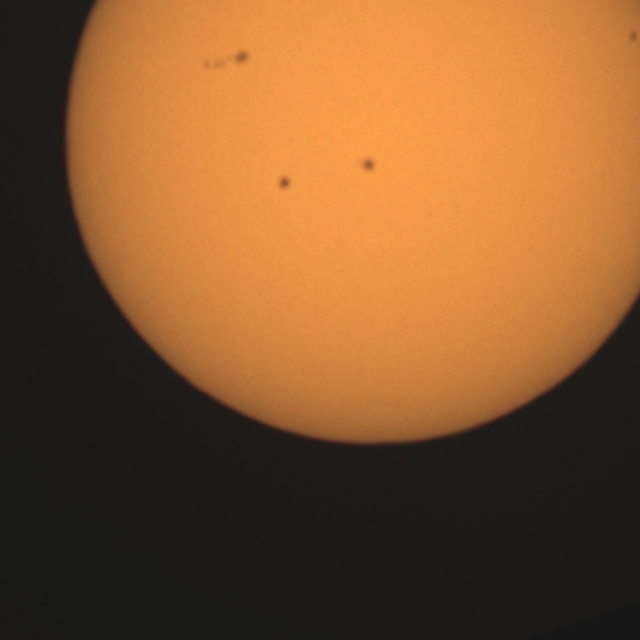sunspot: (198, 48, 251, 74), (359, 155, 378, 175), (276, 174, 294, 193), (627, 28, 640, 46)
